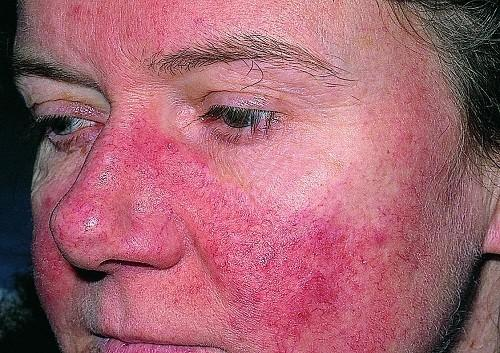Skin-Redness: (215, 207, 432, 349), (68, 119, 192, 246)
